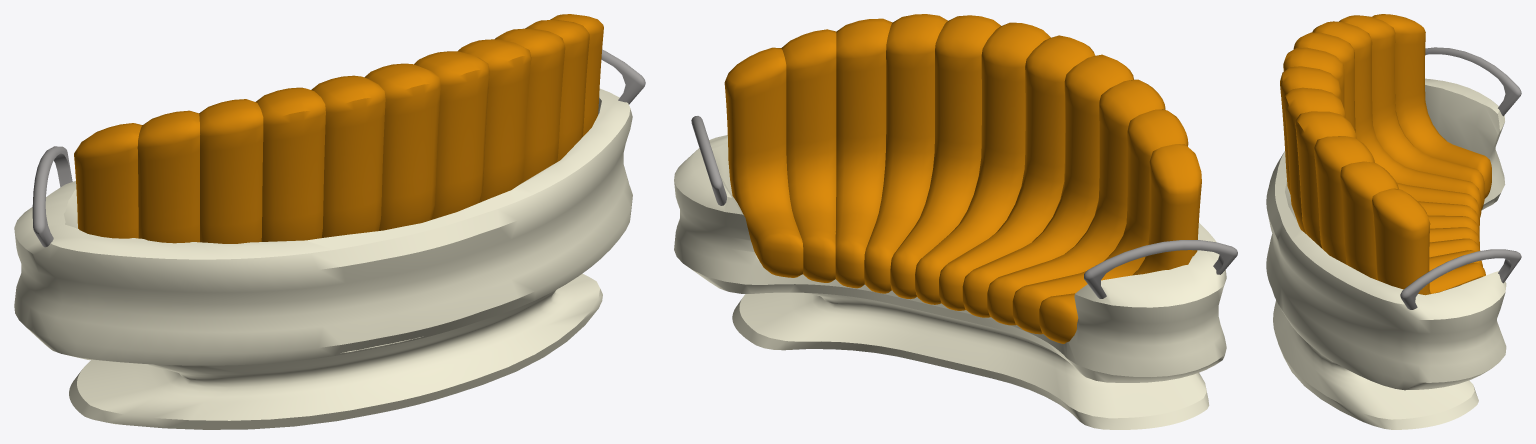
Rendered from Couch.fbx.
The picture shows the model from 3 angles, left to right: view 1: azimuth 30°, elevation 25°; view 2: azimuth 150°, elevation 25°; view 3: azimuth 270°, elevation 25°; orthographic projection. The views are drawn at different scales.
Parts seen in each view (by area): view 1: Body, Cushions, Handles; view 2: Cushions, Body, Handles; view 3: Cushions, Body, Handles.
Part boxes in pixels (x1,y1,x2,y2): Body: (14, 88, 632, 429); Cushions: (74, 14, 603, 243); Handles: (32, 49, 645, 247); Cushions: (724, 14, 1201, 343); Body: (674, 135, 1226, 429); Handles: (691, 116, 1237, 298); Cushions: (1280, 14, 1491, 295); Body: (1266, 78, 1506, 429); Handles: (1400, 47, 1521, 309).
Size of the model in its own units: 12.23 by 6.23 by 5.5.
